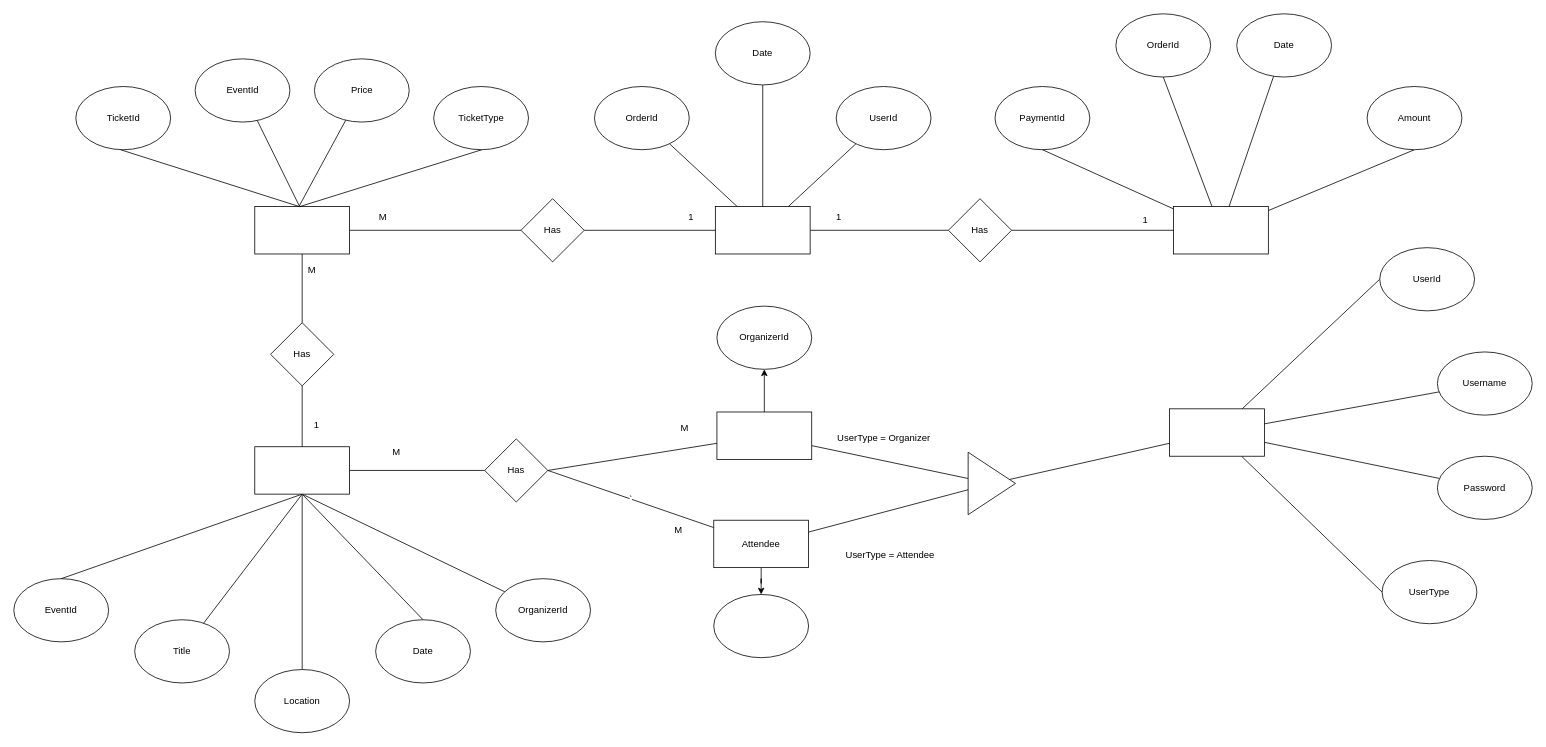
The diagram is 1546 pixels wide and 747 high, and some of its shapes have lost their labels. Here are the shapes that lost their labels. From the top down, the centre of each, then its label:
point 302,230: Ticket
point 762,230: Orders
point 1220,230: Payment
point 764,435: Organizer
point 1216,432: User
point 302,470: Event
point 991,483: IsA
point 761,626: AttendeeId
